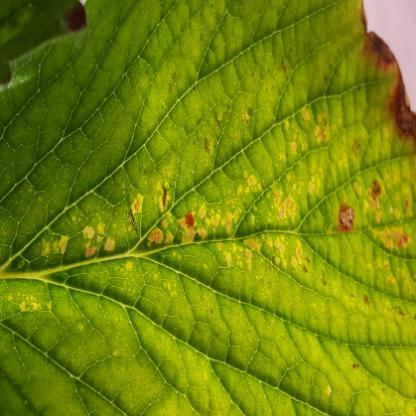Strawberry_Angular_LeafSpot: (0, 6, 415, 400)
